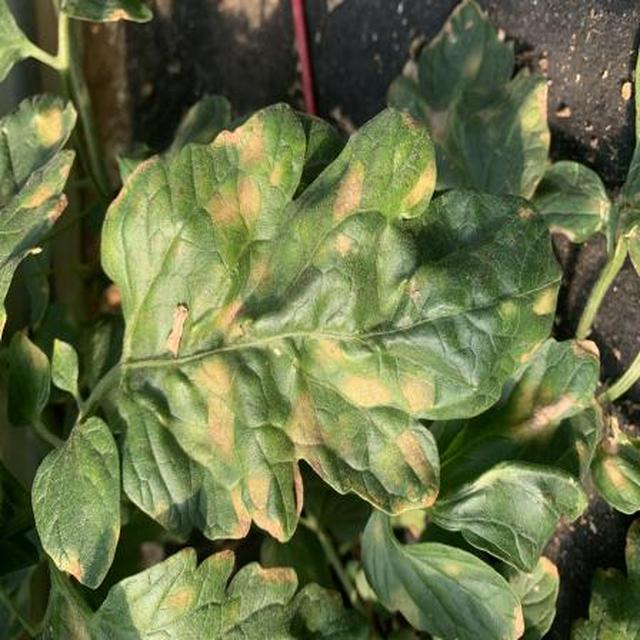Leaf Mold: (109, 186, 640, 640)
